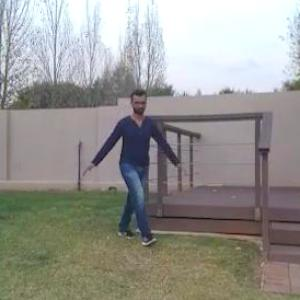land: (80, 80, 189, 268)
